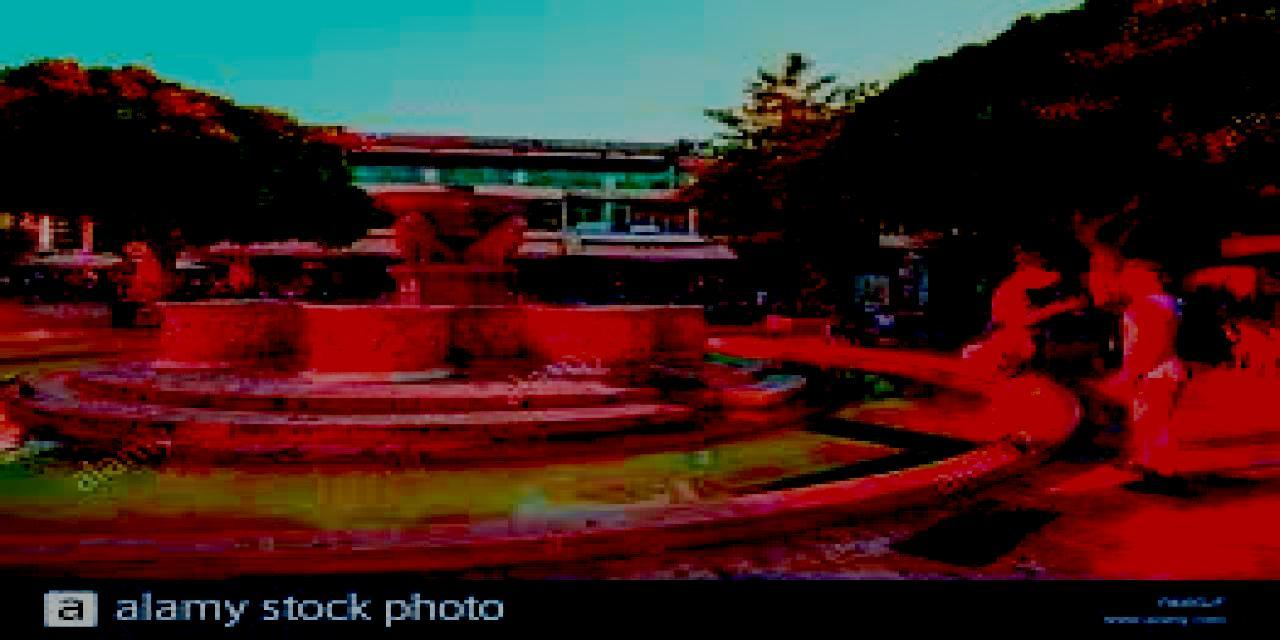Liontaria: (159, 211, 717, 386)
